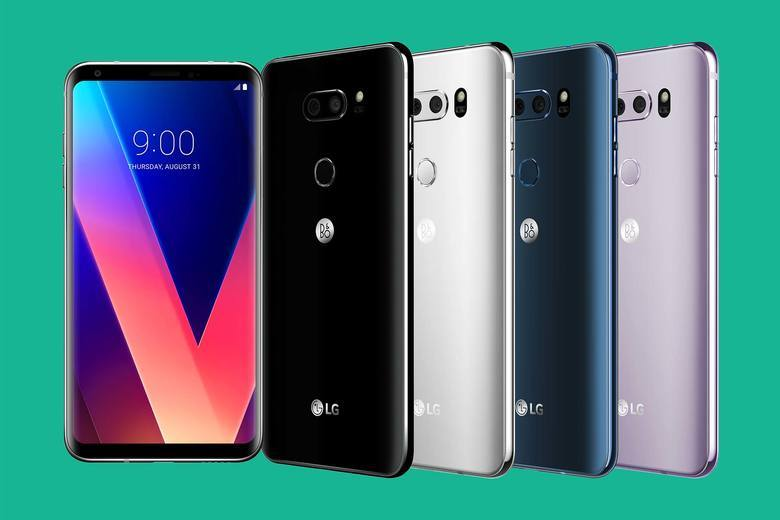phone: (58, 55, 264, 462), (263, 60, 411, 478), (408, 44, 519, 479), (615, 48, 723, 480), (516, 43, 620, 480)
